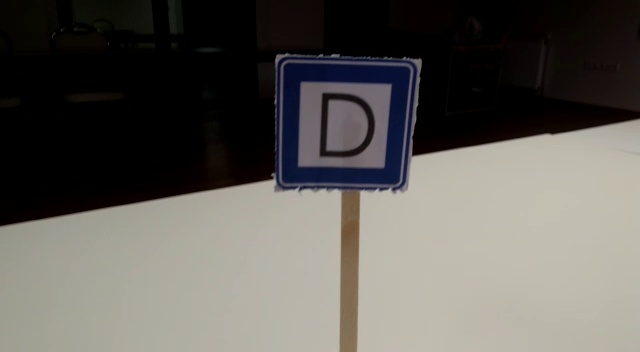durak: (275, 61, 415, 186)
